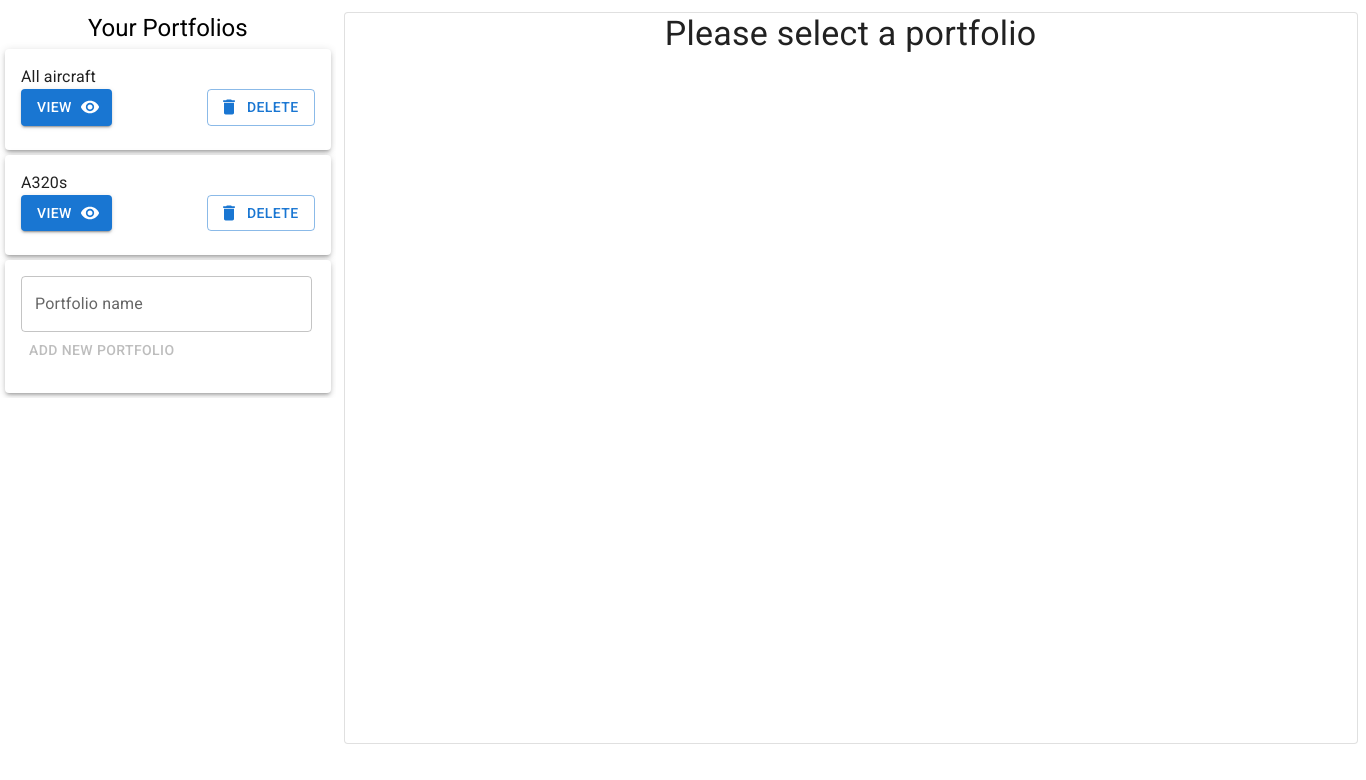
Test case: Dashboard flow › Clicking the delete button on an aircraft within a portfolio removes it from the list
Click the button "View" below "All aircraft" at (67, 108), box left=21, top=89, right=112, bottom=126
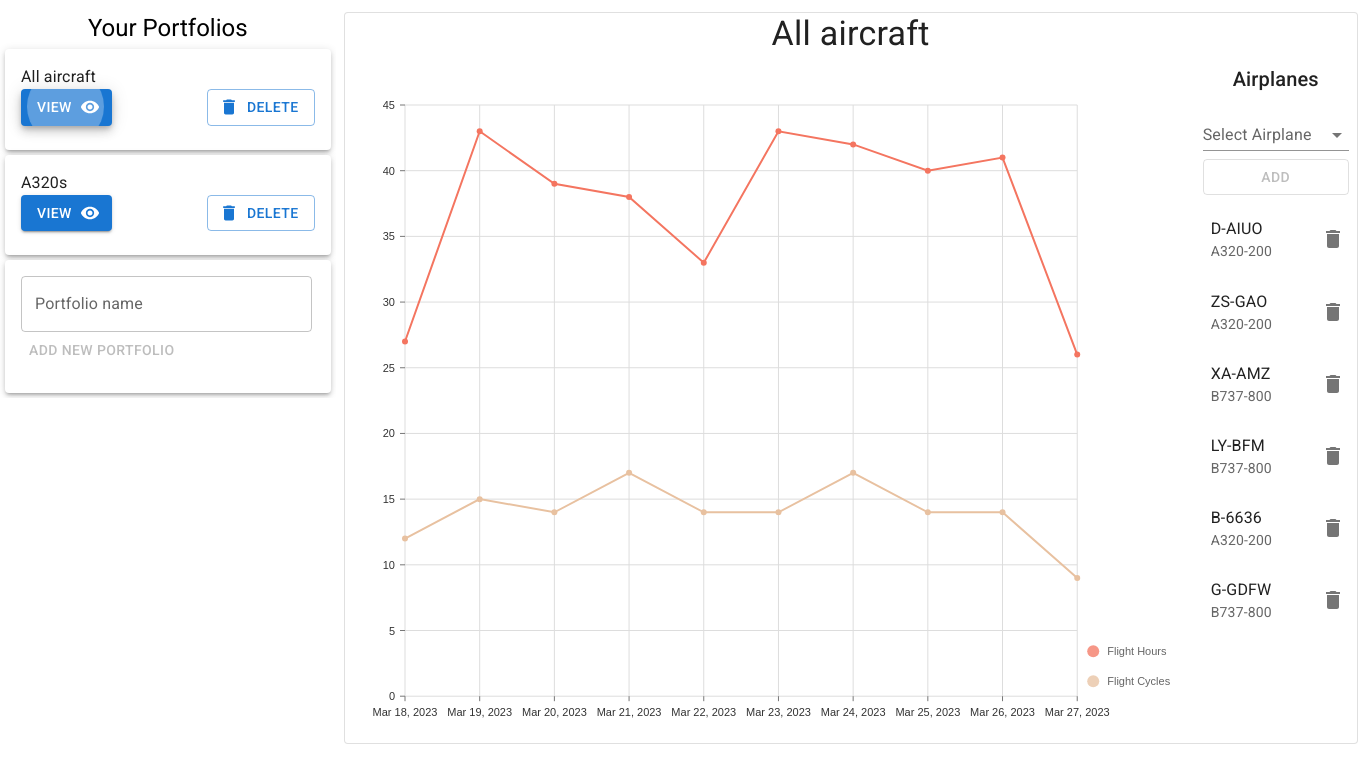
Now the text "D-AIUO" is shown, box left=1211, top=220, right=1263, bottom=238
Click the button named "delete" in the row of "D-AIUO" at (1333, 240), box left=1313, top=220, right=1353, bottom=260
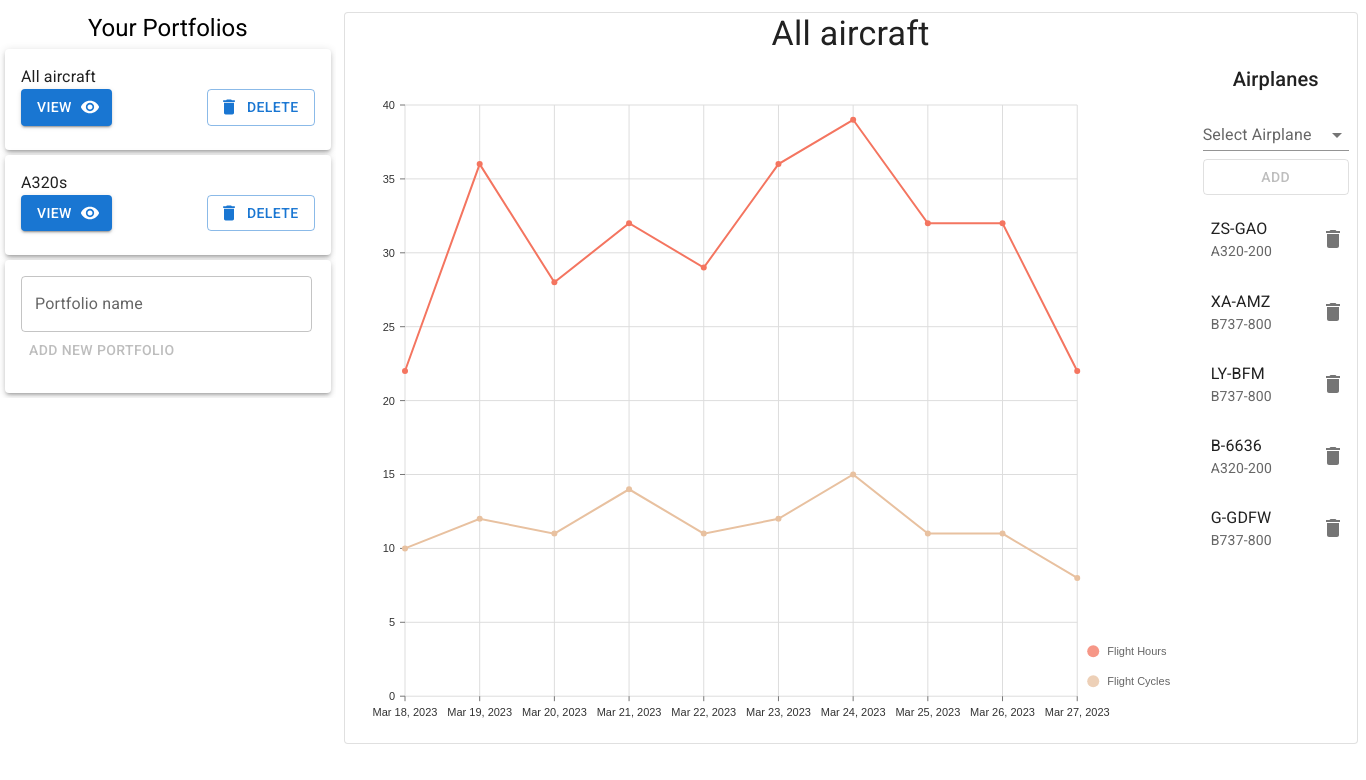
Now the text "D-AIUO" is gone
